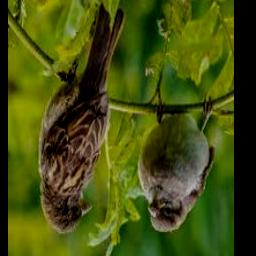Sparrow: (39, 4, 125, 235), (138, 95, 216, 232)
